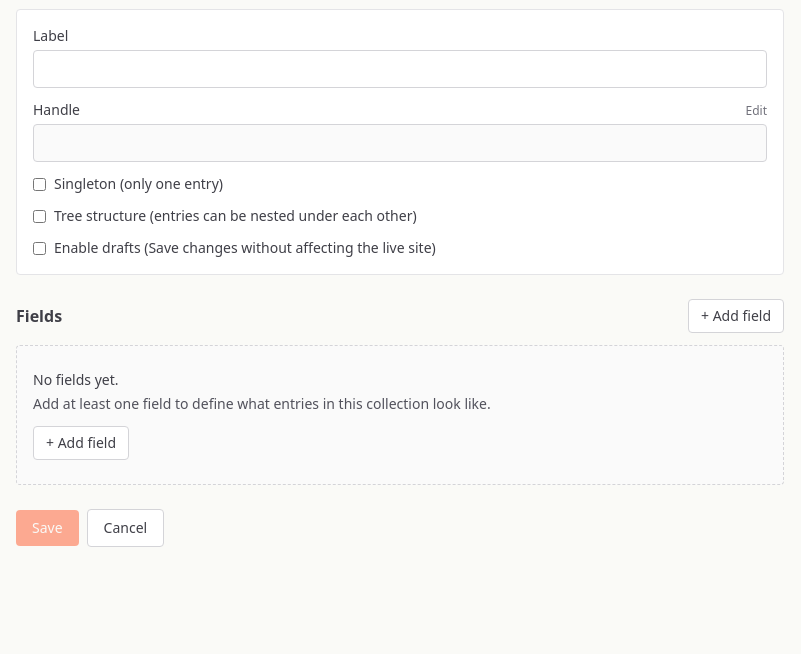
BlueprintEditor › shows an empty-state card and disables Save when there are no fields
Expected: the element with test id "fields-empty-state" is shown, [16, 345, 784, 485]
Expected: the button with test id "blueprint-save" is disabled, [16, 510, 79, 546]
Note: Adding a field removes the empty state and enables Save.
Click the button with test id "add-field" at (736, 316), box [688, 299, 784, 333]
(page scrolled)
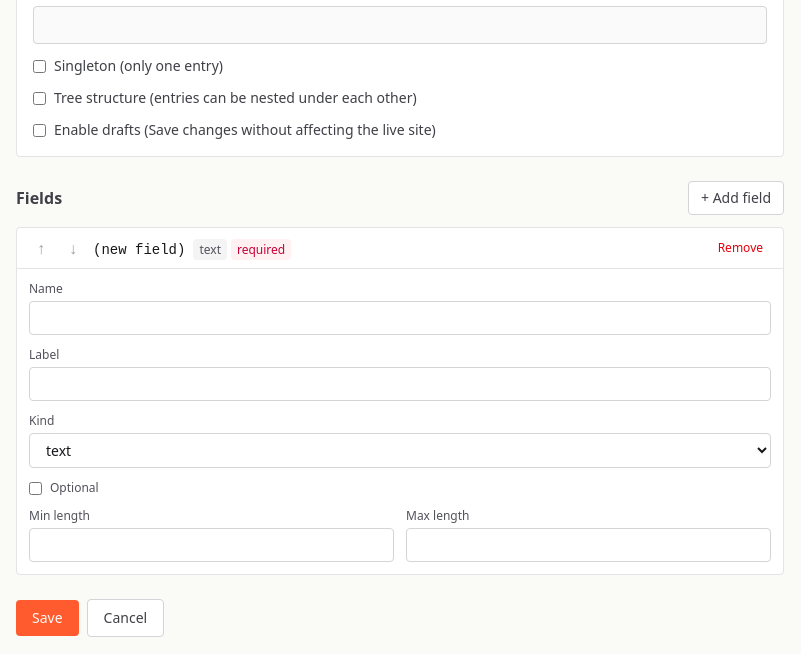
Now the button with test id "blueprint-save" is enabled, box [16, 600, 79, 636]
